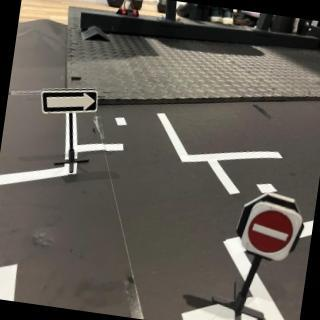sign_noentry: (237, 198, 306, 267)
sign_oneway_right: (38, 80, 102, 123)
